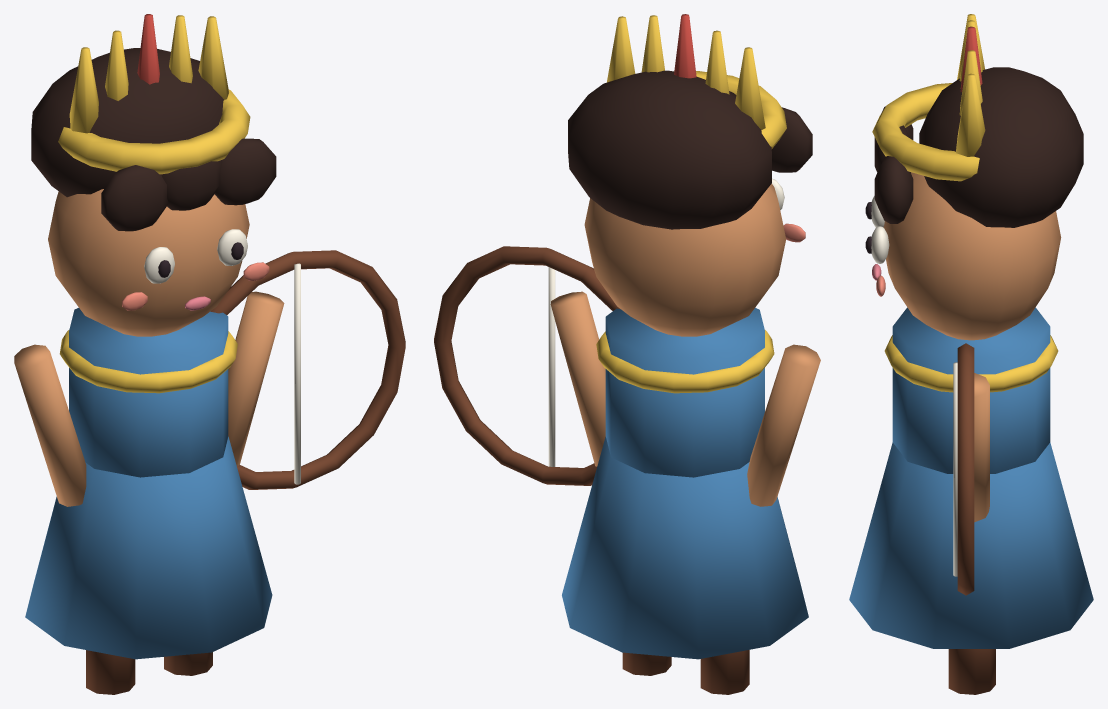
The model's file is suthon.glb.
The picture shows the model from 3 angles, left to right: view 1: azimuth 30°, elevation 25°; view 2: azimuth 150°, elevation 25°; view 3: azimuth 270°, elevation 25°; orthographic projection. The views are drawn at different scales.
Parts seen in each view (by area): view 1: suthon_robe, suthon_torso, suthon_head, suthon_hair_back, suthon_bow, suthon_crown_band, suthon_arm_-1, suthon_arm_1, suthon_belt, suthon_fringe_0, suthon_fringe_2, suthon_fringe_1 (+10 smaller); view 2: suthon_robe, suthon_hair_back, suthon_torso, suthon_head, suthon_bow, suthon_arm_-1, suthon_arm_1, suthon_belt, suthon_leg_-1, suthon_fringe_0, suthon_bow_string, suthon_crown_spire_-2 (+6 smaller); view 3: suthon_robe, suthon_head, suthon_hair_back, suthon_torso, suthon_crown_band, suthon_bow, suthon_belt, suthon_arm_1, suthon_leg_1, suthon_fringe_2, suthon_crown_spire_2, suthon_bow_string (+3 smaller).
Boxes of the visible parts, x1=… form: suthon_robe: x1=25, y1=436, x2=272, y2=659; suthon_torso: x1=69, y1=307, x2=228, y2=477; suthon_head: x1=48, y1=189, x2=249, y2=336; suthon_hair_back: x1=31, y1=48, x2=223, y2=197; suthon_bow: x1=210, y1=250, x2=405, y2=489; suthon_crown_band: x1=58, y1=89, x2=250, y2=174; suthon_arm_-1: x1=14, y1=344, x2=86, y2=506; suthon_arm_1: x1=228, y1=291, x2=284, y2=466; suthon_belt: x1=59, y1=330, x2=237, y2=393; suthon_fringe_0: x1=101, y1=165, x2=168, y2=231; suthon_fringe_2: x1=214, y1=138, x2=276, y2=205; suthon_fringe_1: x1=161, y1=160, x2=222, y2=210; suthon_robe: x1=562, y1=437, x2=808, y2=659; suthon_hair_back: x1=568, y1=70, x2=771, y2=229; suthon_torso: x1=605, y1=307, x2=764, y2=477; suthon_head: x1=584, y1=183, x2=786, y2=336; suthon_bow: x1=434, y1=246, x2=620, y2=485; suthon_arm_-1: x1=747, y1=344, x2=820, y2=506; suthon_arm_1: x1=550, y1=291, x2=605, y2=466; suthon_belt: x1=596, y1=330, x2=774, y2=393; suthon_leg_-1: x1=700, y1=650, x2=749, y2=694; suthon_fringe_0: x1=771, y1=107, x2=812, y2=172; suthon_bow_string: x1=548, y1=267, x2=555, y2=466; suthon_crown_spire_-2: x1=735, y1=47, x2=765, y2=129; suthon_robe: x1=849, y1=442, x2=1093, y2=648; suthon_head: x1=883, y1=172, x2=1061, y2=340; suthon_hair_back: x1=919, y1=67, x2=1083, y2=227; suthon_torso: x1=892, y1=307, x2=1050, y2=473; suthon_crown_band: x1=872, y1=83, x2=979, y2=181; suthon_bow: x1=957, y1=343, x2=974, y2=595; suthon_belt: x1=884, y1=335, x2=1058, y2=392; suthon_arm_1: x1=974, y1=373, x2=989, y2=522; suthon_leg_1: x1=948, y1=649, x2=995, y2=694; suthon_fringe_2: x1=874, y1=156, x2=913, y2=223; suthon_crown_spire_2: x1=956, y1=73, x2=985, y2=156; suthon_bow_string: x1=953, y1=362, x2=957, y2=576.
Bounding box in the file's own units: 1.59 × 2.59 × 0.9.
